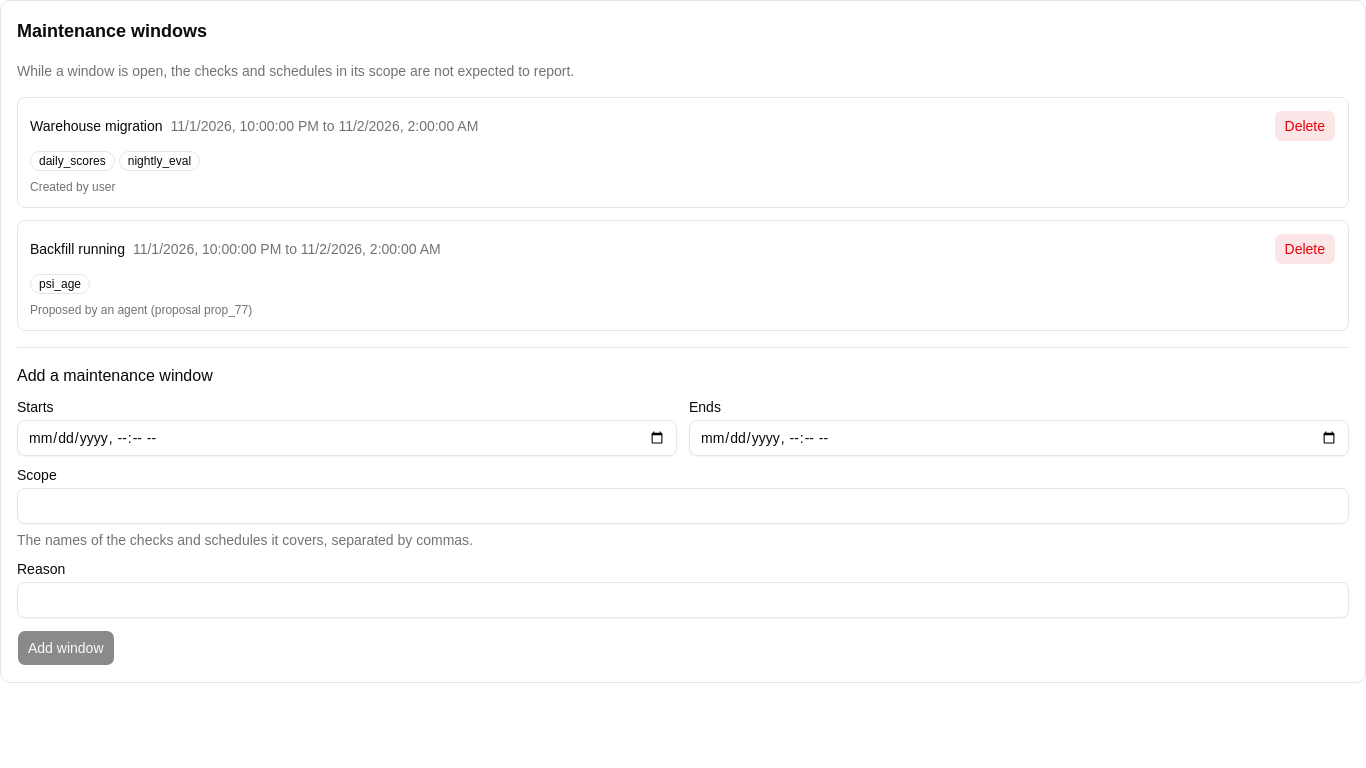
it: MaintenanceSection › deletes a window only after a confirmation, and it leaves the list
The width and height of the screenshot is (1366, 768).
Click the button with aria-label "Delete window daily_scores, nightly_eval" at (1305, 126), box [1274, 110, 1336, 142]
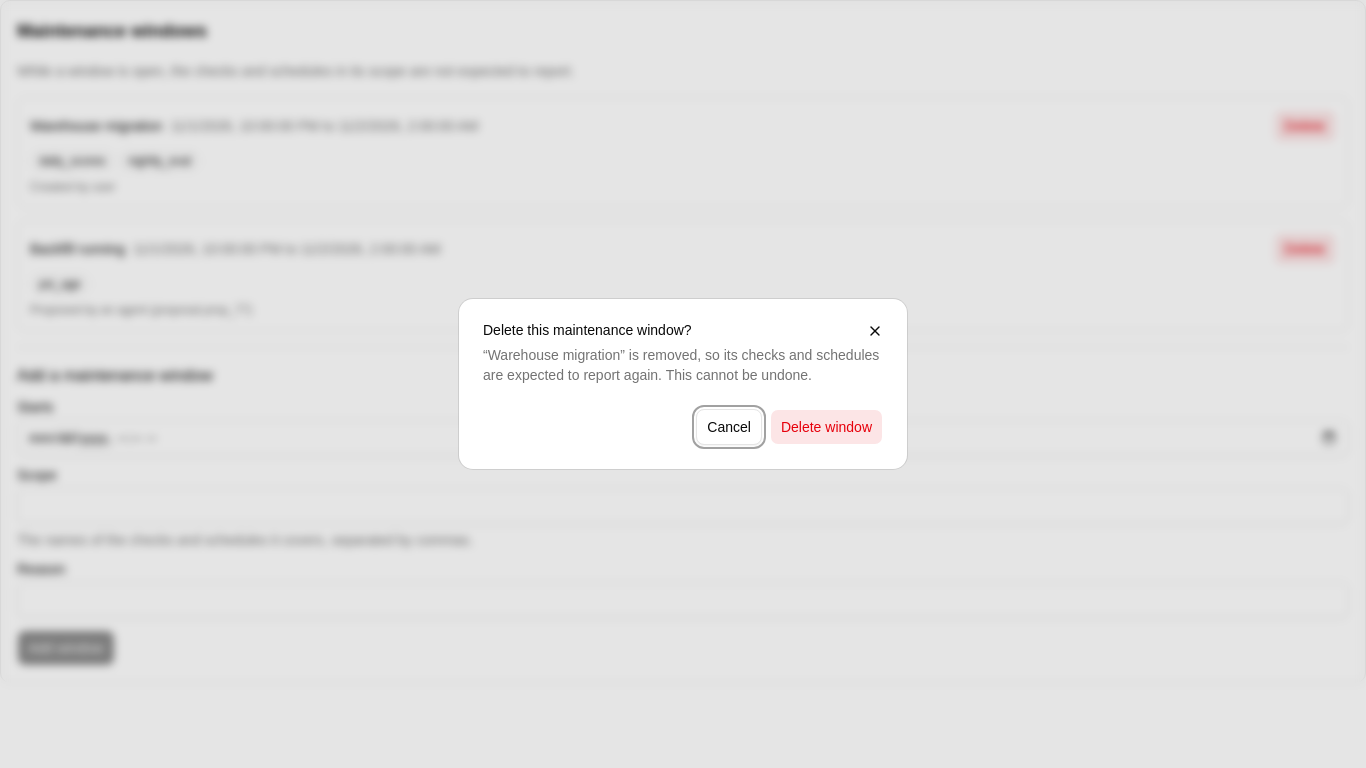
Click the button "Delete window" at (826, 427), box [770, 409, 883, 445]
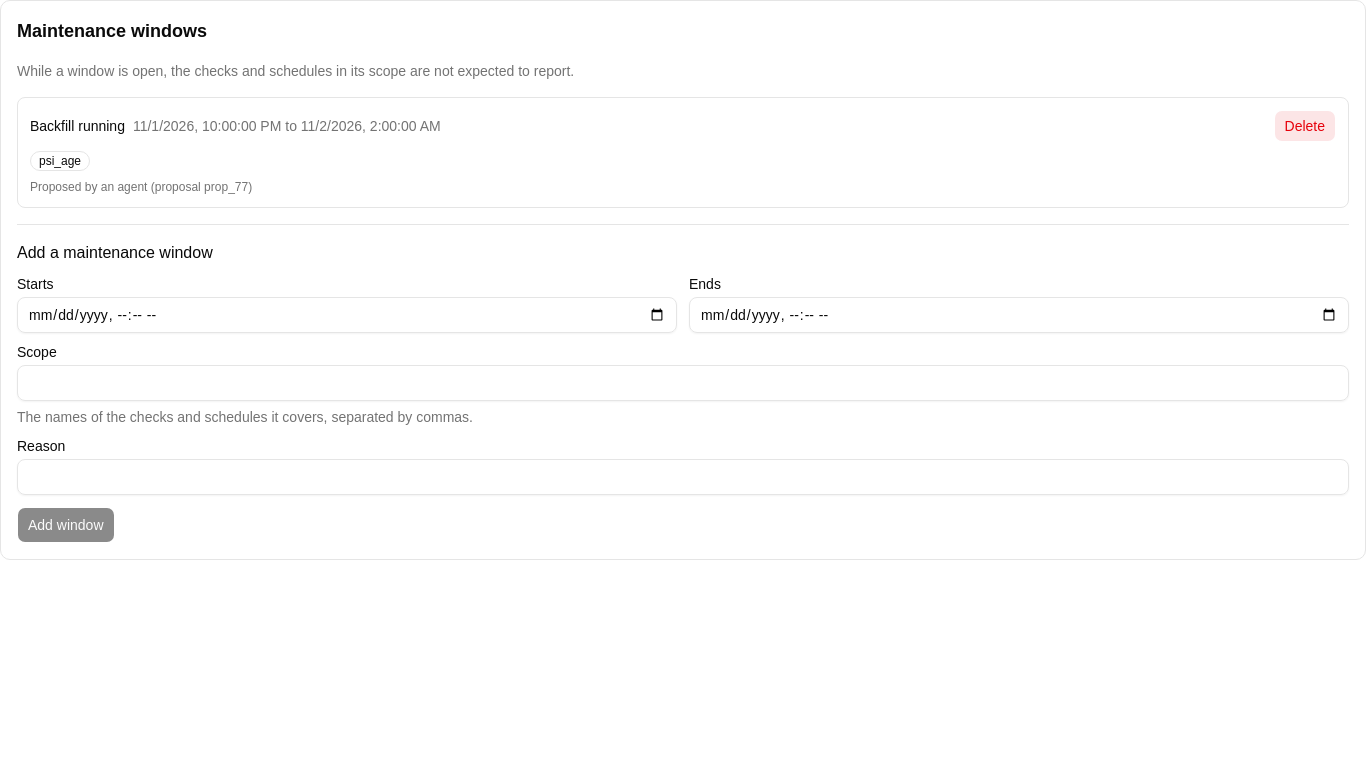
Check: the list item "Backfill running" is shown, box [17, 97, 1349, 208]
Check: the text "Warehouse migration" is gone
